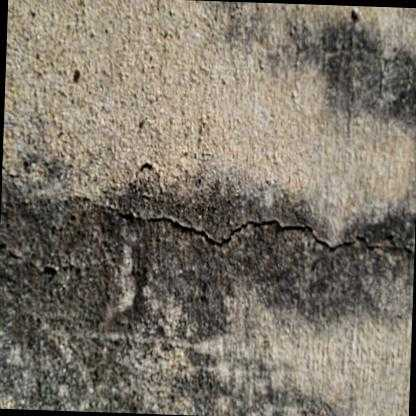crack: (143, 213, 379, 255)
